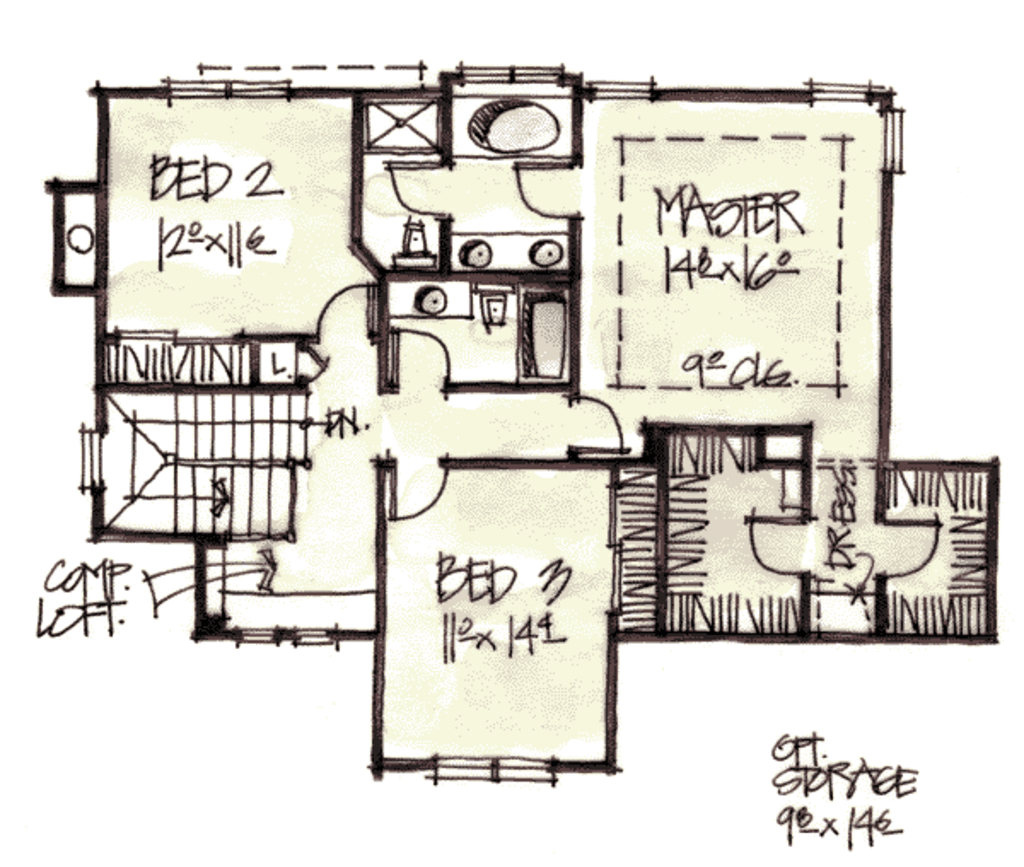door: (374, 447, 461, 529), (561, 388, 640, 458), (307, 277, 385, 347), (742, 506, 812, 581), (502, 155, 585, 217), (379, 154, 454, 218), (386, 327, 453, 388), (881, 513, 941, 581)
large_sink: (387, 214, 441, 272), (470, 281, 512, 334)
small_sink: (446, 227, 567, 277), (381, 275, 470, 322)
stairs: (92, 393, 310, 540)
tub: (519, 286, 574, 383)
window: (427, 748, 557, 784), (165, 73, 292, 104), (804, 75, 891, 109), (460, 59, 557, 89), (588, 73, 657, 106), (882, 110, 908, 171)
